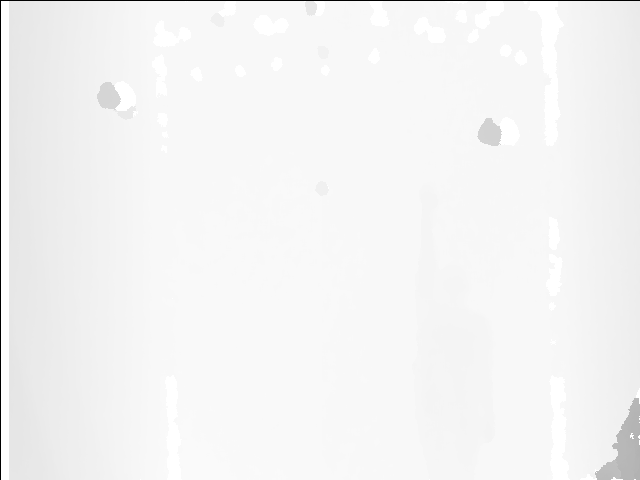hand: (417, 186, 447, 227)
